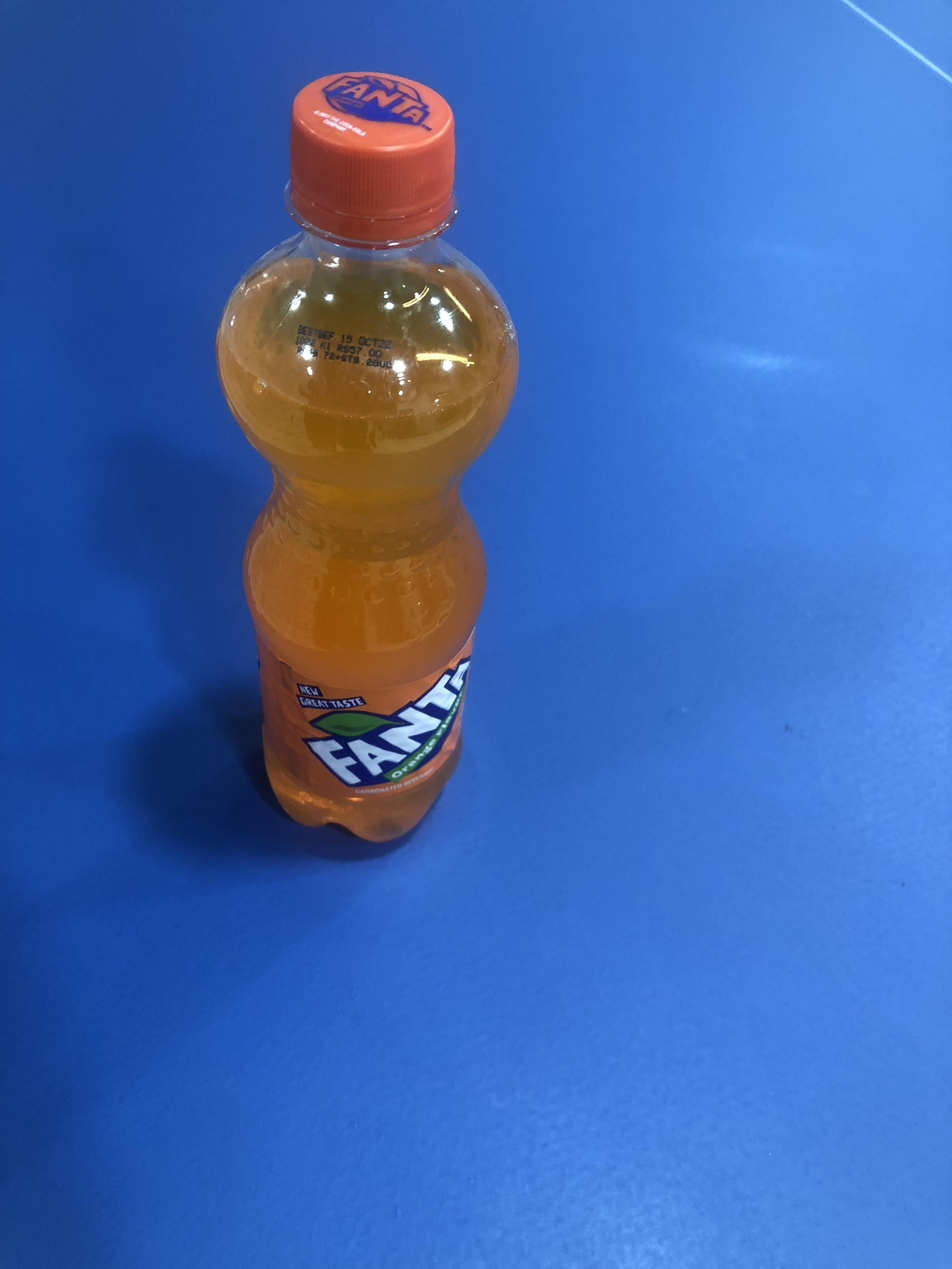bottle-plastic: (218, 67, 528, 850)
